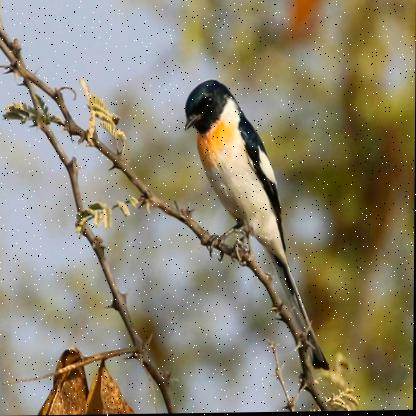Burung: (183, 78, 330, 371)
